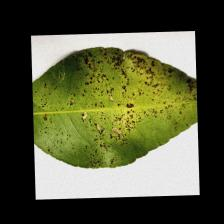canker: (71, 62, 162, 128)
